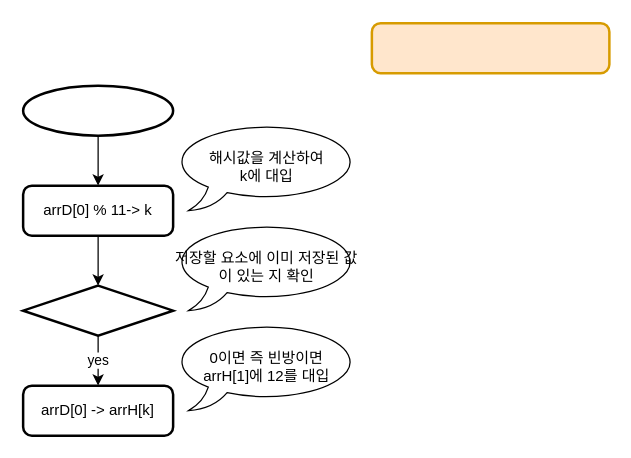
Image size: 631x458. Some labels were removed from this diagram. The box of each missing label's shape, as (x1, y1, x2, y2) in pixels:
arrH[k] = 0: (21, 284, 174, 336)
Hash Search: (370, 21, 610, 74)
Start: (21, 84, 174, 136)
